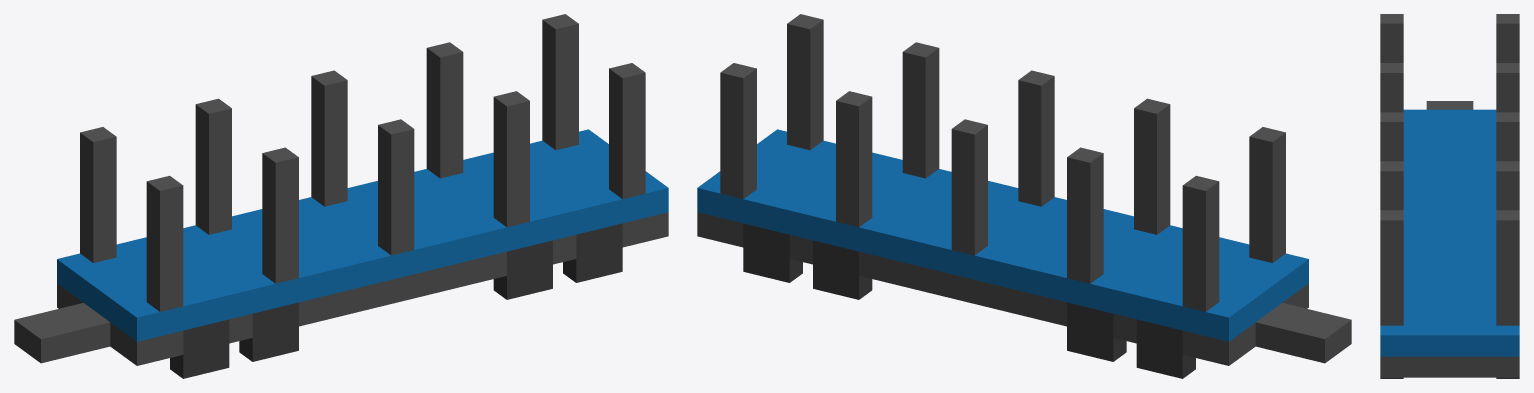
The model's file is train-trailer-v9-blue.gltf.
3 views of the same model, side by side, from view 1: azimuth 30°, elevation 25°; view 2: azimuth 150°, elevation 25°; view 3: azimuth 270°, elevation 25° (orthographic). The views are drawn at different scales.
Visible parts, largest first — view 1: model, wheels; view 2: model, wheels; view 3: model.
Boxes of the visible parts, <box> form: model: <box>14,14,668,365</box>; wheels: <box>170,223,622,378</box>; model: <box>697,14,1351,365</box>; wheels: <box>743,223,1195,378</box>; model: <box>1380,14,1519,377</box>.
Bounding box in the file's own units: 2.6 × 0.8 × 0.6.
Materials: 2 (2 with a texture image).
